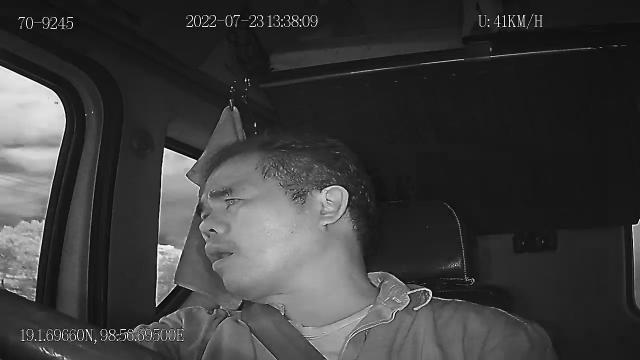Seatbelt: (240, 298, 330, 360)
